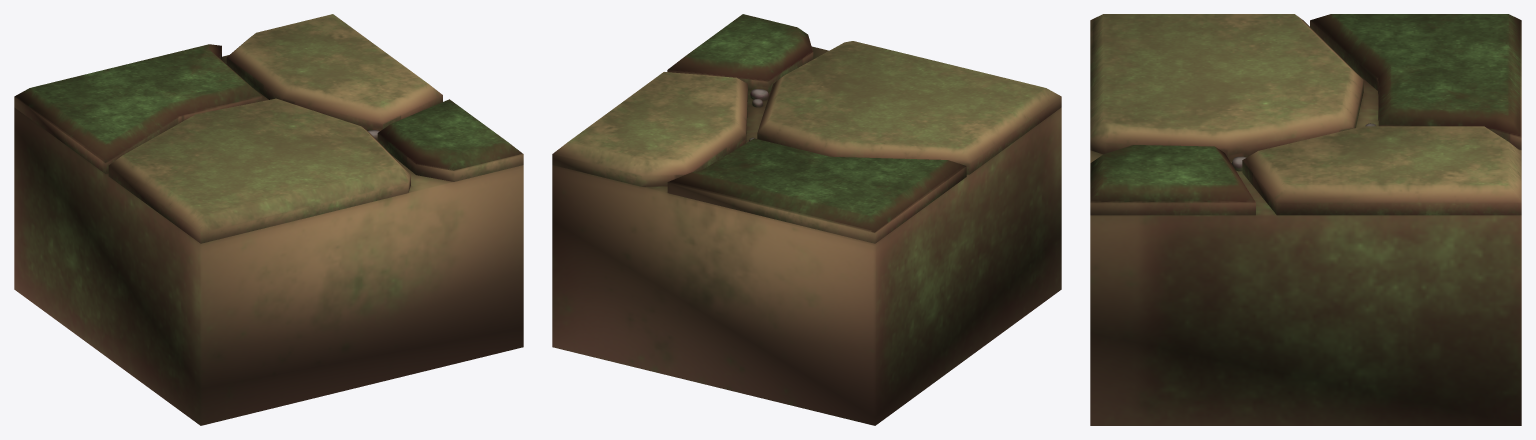
The model's file is Ground03.fbx.
The picture shows the model from 3 angles, left to right: view 1: azimuth 30°, elevation 25°; view 2: azimuth 150°, elevation 25°; view 3: azimuth 270°, elevation 25°; orthographic projection. The views are drawn at different scales.
Parts seen in each view (by area): view 1: Cube.121; view 2: Cube.121; view 3: Cube.121.
Part boxes in pixels (x1=…): Cube.121: x1=14, y1=14, x2=523, y2=425; Cube.121: x1=552, y1=14, x2=1061, y2=425; Cube.121: x1=1090, y1=14, x2=1521, y2=425.
Size of the model in its own units: 4 by 2.41 by 4.
